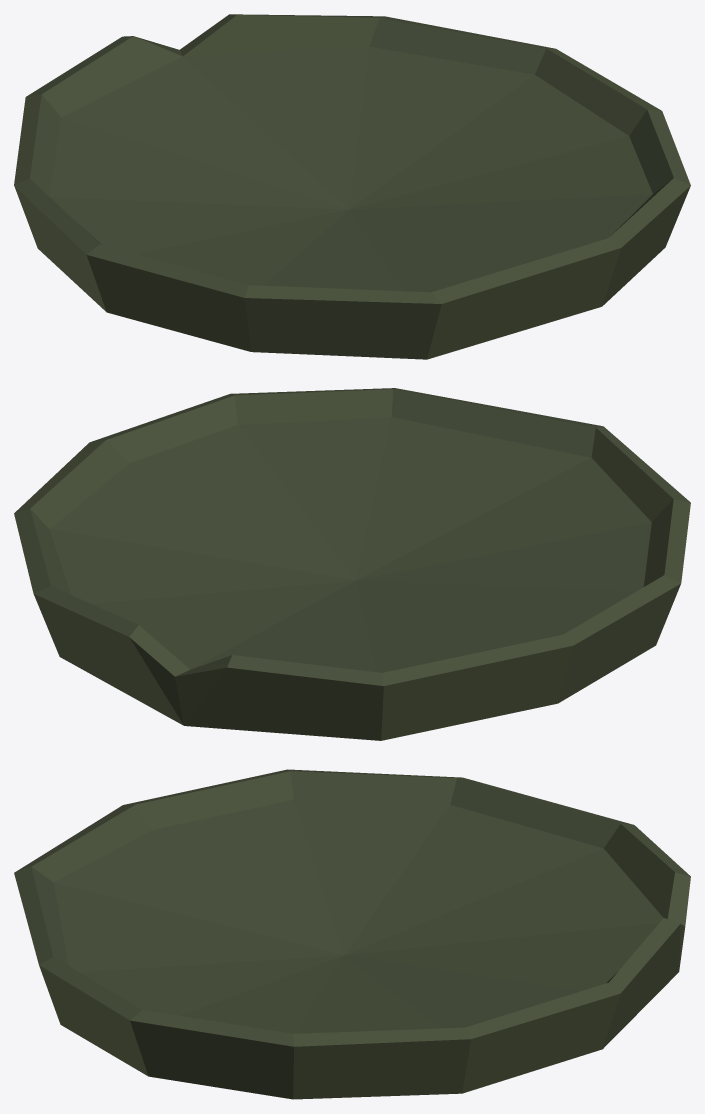
3 views of the same model, one above another, from view 1: azimuth 30°, elevation 25°; view 2: azimuth 150°, elevation 25°; view 3: azimuth 270°, elevation 25° (orthographic). The views are drawn at different scales.
Parts seen in each view (by area): view 1: SM_Plant_Lillypad_Large_03; view 2: SM_Plant_Lillypad_Large_03; view 3: SM_Plant_Lillypad_Large_03.
Part boxes in pixels (x1,y1,x2,y2): SM_Plant_Lillypad_Large_03: (14,14,690,359); SM_Plant_Lillypad_Large_03: (14,388,690,740); SM_Plant_Lillypad_Large_03: (14,769,690,1099).
Bounding box in the file's own units: 0.7471 × 0.0997 × 0.7707.
Materials: 1 (1 with a texture image).
